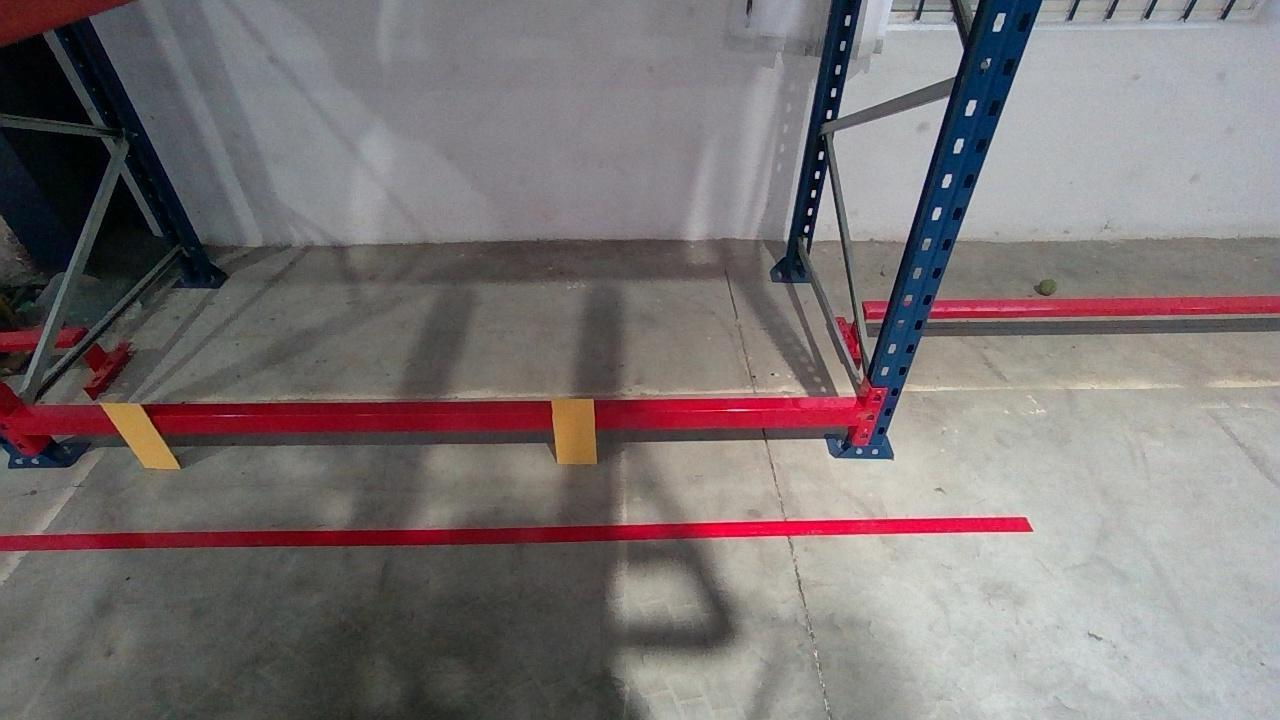h_rack: (3, 406, 864, 434)
orange_strip: (97, 405, 184, 467), (549, 399, 598, 464)
red_line: (2, 517, 1031, 548)
